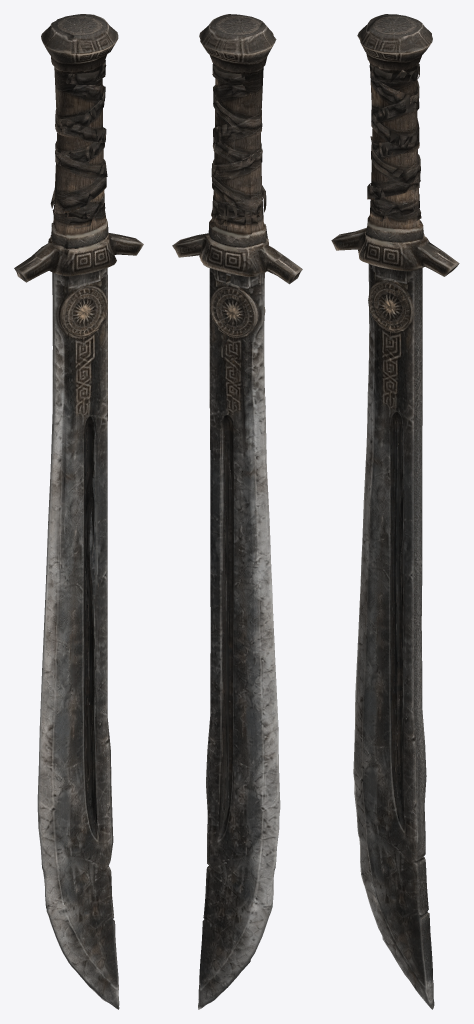
Rendered from ninja_sword_mesh.fbx.
The picture shows the model from 3 angles, left to right: view 1: azimuth 30°, elevation 25°; view 2: azimuth 150°, elevation 25°; view 3: azimuth 330°, elevation 25°; orthographic projection.
Visible parts, largest first — view 1: Mesh_0; view 2: Mesh_0; view 3: Mesh_0.
Part boxes in pixels (left/top/right/bottom): Mesh_0: left=14, top=14, right=143, bottom=1009; Mesh_0: left=172, top=14, right=302, bottom=1009; Mesh_0: left=331, top=14, right=459, bottom=1009.
Bounding box in the file's own units: 12.21 × 94.97 × 6.2.
1 material, 1 textured.
